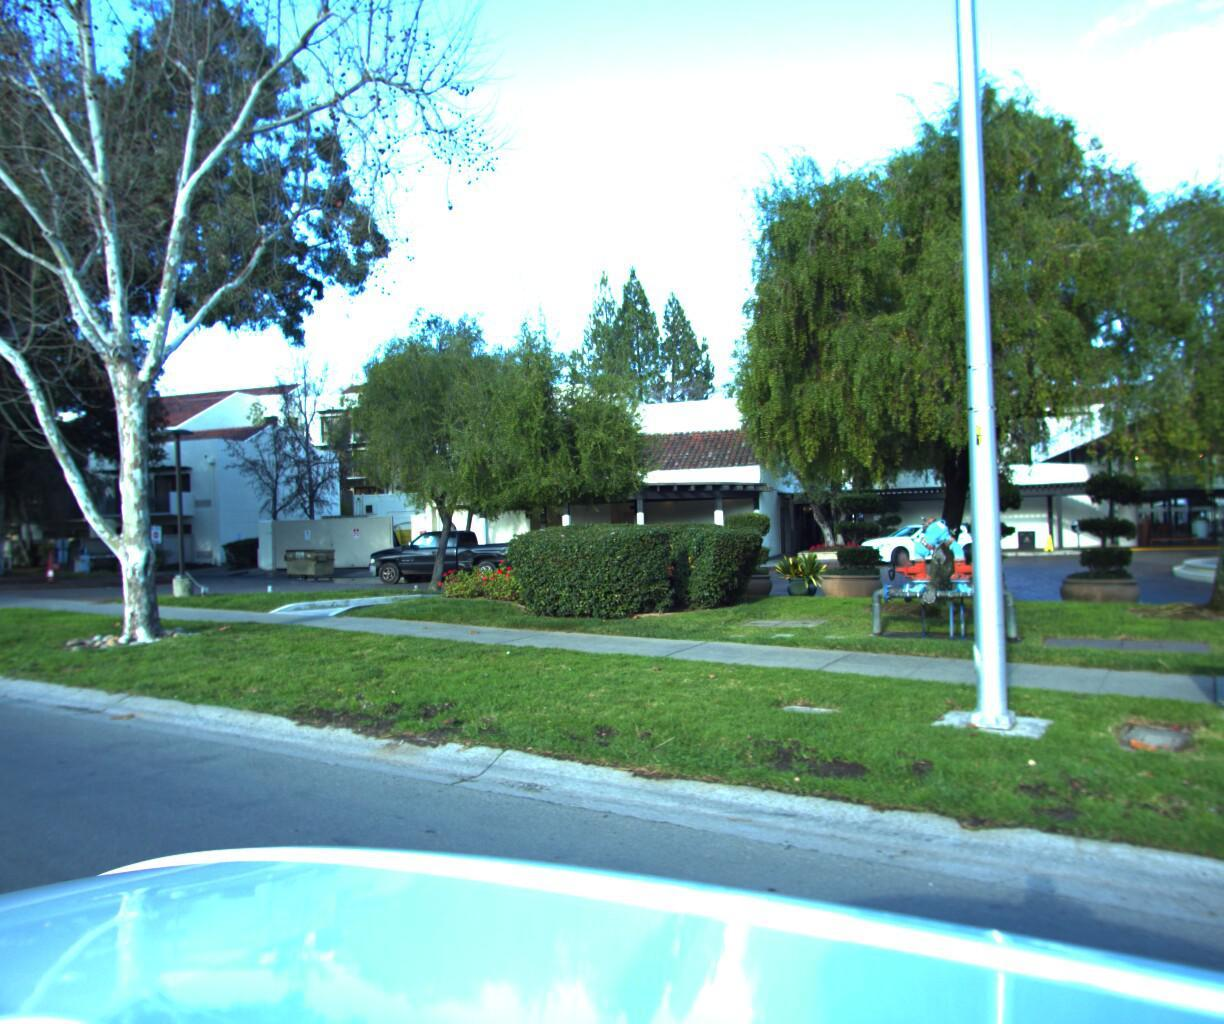car: (357, 521, 539, 582), (845, 513, 990, 560)
